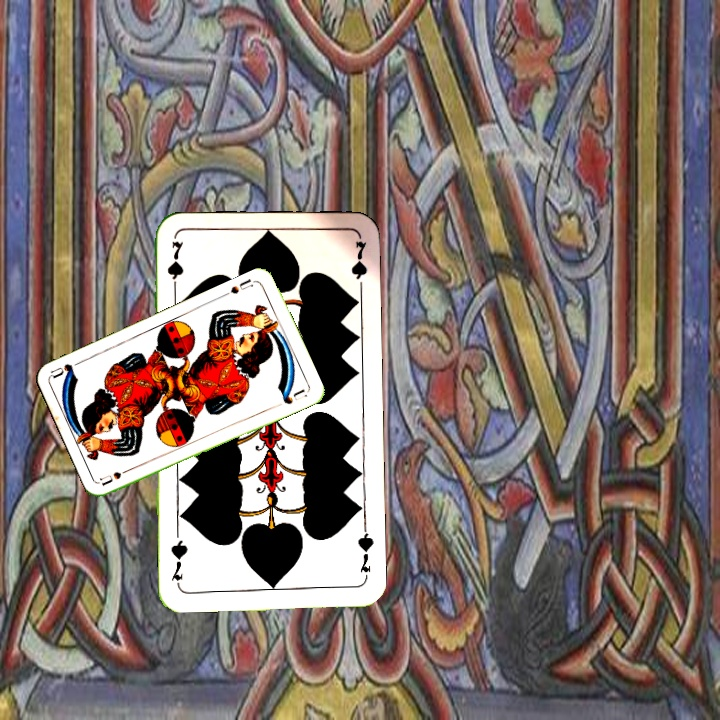G7: (163, 237, 186, 296), (353, 524, 376, 583)
SU: (97, 463, 136, 488), (226, 274, 259, 297)
